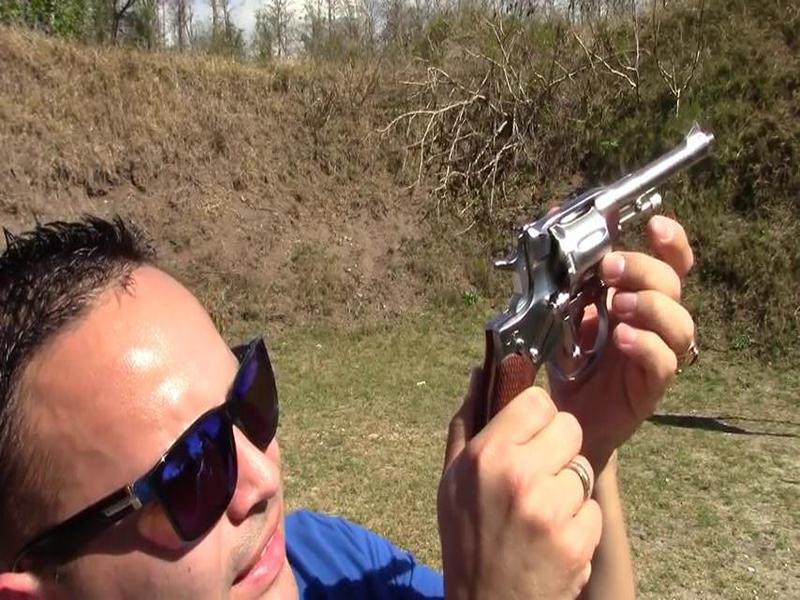Revolver: (458, 104, 741, 441)
